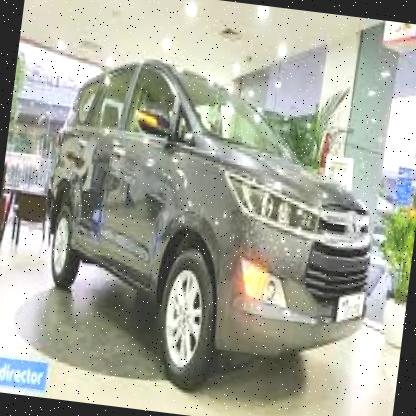car: (24, 43, 403, 416)
